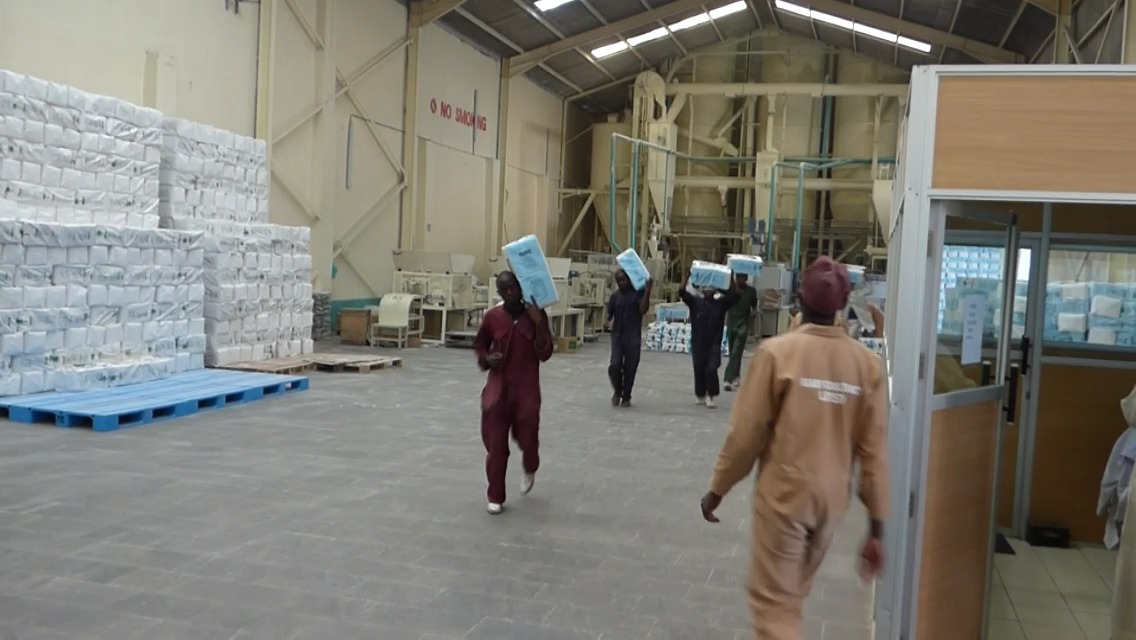wheat_flour_blue_label: (497, 236, 557, 306)
